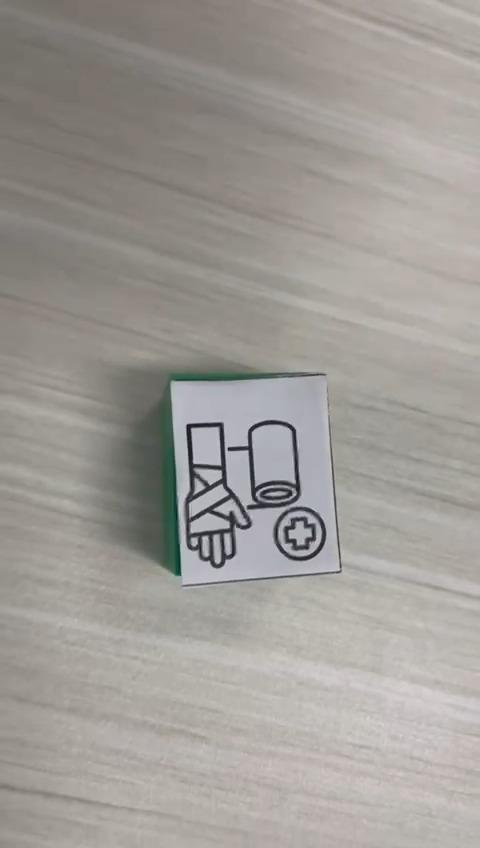Bandages: (162, 375, 344, 588)
